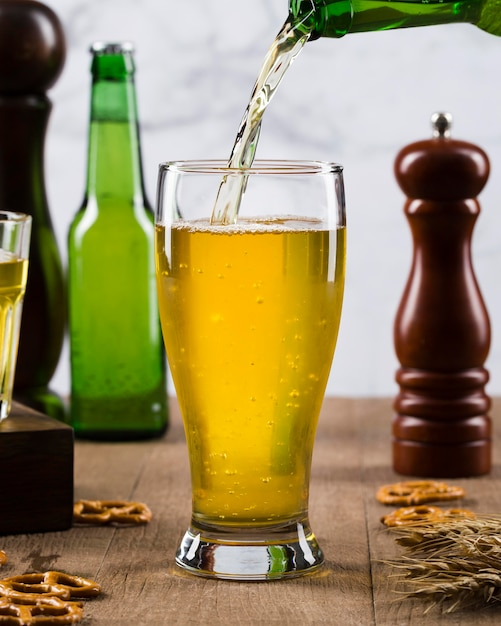alcohol: (156, 155, 346, 580), (63, 36, 173, 441), (289, 0, 501, 40), (0, 200, 35, 434)
